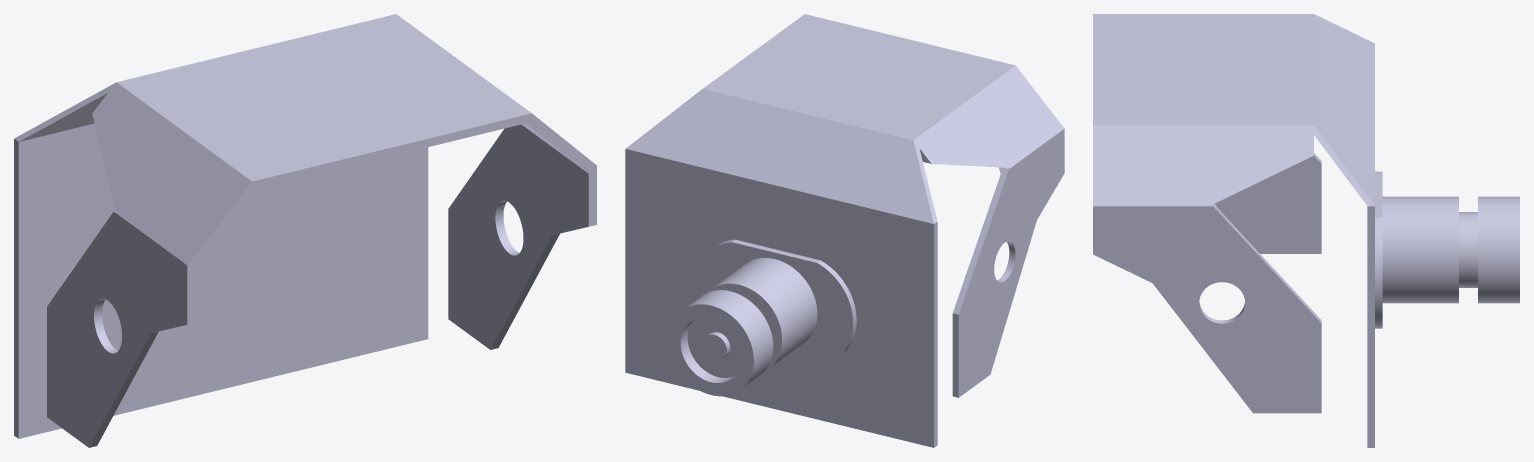
Rendered from Camera_top.dae.
3 renders of one model, left to right at view 1: azimuth 30°, elevation 25°; view 2: azimuth 150°, elevation 25°; view 3: azimuth 270°, elevation 25°, orthographic. The views are drawn at different scales.
Visible parts, largest first — view 1: node0; view 2: node0; view 3: node0.
Boxes of the visible parts, x1,y1,x2,y2 form: node0: (14, 14, 596, 447); node0: (625, 14, 1064, 447); node0: (1093, 14, 1519, 447).
Size of the model in its own units: 0.0505 by 0.056 by 0.043.
